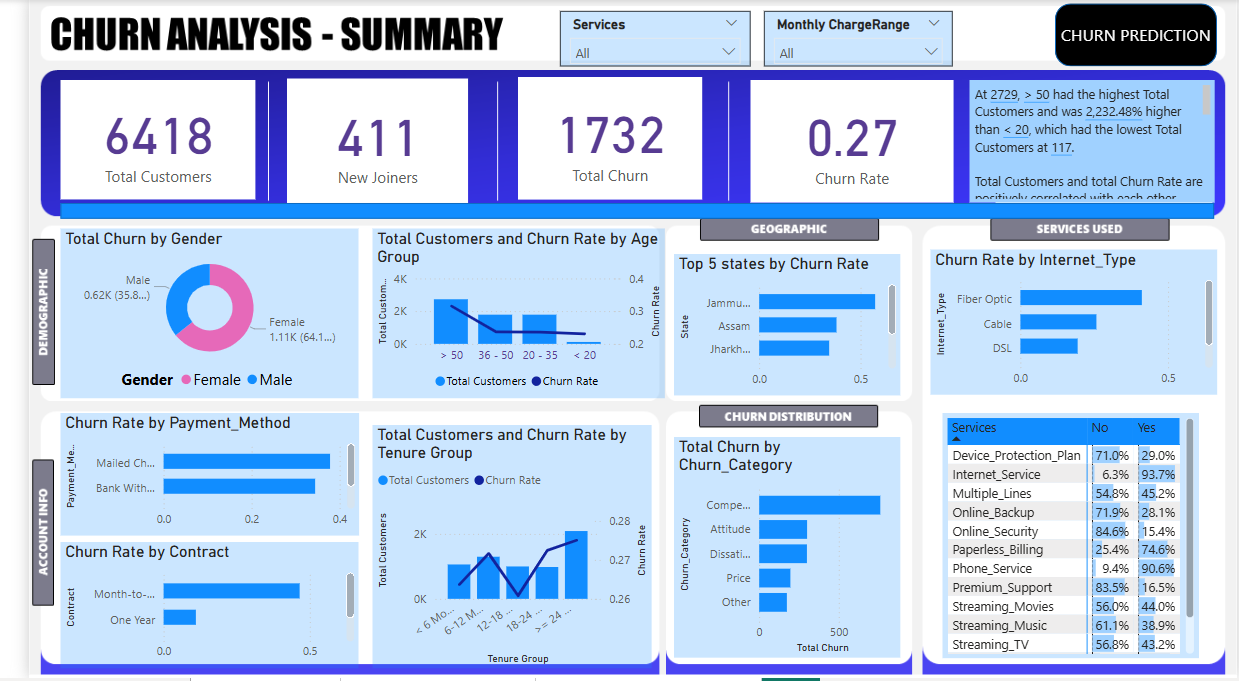

What the dashboard file says about the page in this screenshot:
{"tool":"powerbi","page":{"name":"SUMMARY","canvas":[1280,720],"ordinal":0},"visuals":[{"type":"card","fields":{"Values":["tbl_Measures.New Joiners"]},"box":[274,84,192,132],"z":0},{"type":"card","fields":{"Values":["tbl_Measures.Total Churn"]},"box":[518.3,83.3,195,130],"z":1000},{"type":"card","fields":{"Values":["tbl_Measures.Churn Rate"]},"box":[765,86.7,215,130],"z":2000},{"type":"card","fields":{"Values":["tbl_Measures.Total Customers"]},"box":[33.3,86.7,206.7,126.7],"z":3000},{"type":"donutChart","fields":{"Category":["prod_Churn.Gender"],"Y":["tbl_Measures.Total Churn"]},"box":[34,244,316,180],"z":4000},{"type":"lineStackedColumnComboChart","fields":{"Category":["Mapping_Agegrp.Age Group "],"Y":["tbl_Measures.Total Customers"],"Y2":["tbl_Measures.Churn Rate"]},"box":[364,244,310,180],"z":5000},{"type":"clusteredBarChart","fields":{"Category":["prod_Churn.Payment_Method"],"Y":["tbl_Measures.Churn Rate"]},"box":[33.3,438.3,316.7,130],"z":6000},{"type":"clusteredBarChart","fields":{"Category":["prod_Churn.Contract"],"Y":["tbl_Measures.Churn Rate"]},"box":[34,576,316,134],"z":7000},{"type":"lineStackedColumnComboChart","fields":{"Category":["Mapping_Tenuregrp.Tenure Group"],"Y":["tbl_Measures.Total Customers"],"Y2":["tbl_Measures.Churn Rate"]},"box":[364,452,296,258],"z":8000},{"type":"clusteredBarChart","title":"Top 5 states by Churn Rate  ","fields":{"Category":["prod_Churn.State"],"Y":["tbl_Measures.Churn Rate"]},"box":[684,270,240,150],"z":9000},{"type":"clusteredBarChart","fields":{"Category":["prod_Churn.Churn_Category"],"Y":["tbl_Measures.Total Churn"]},"box":[684,464,240,234],"z":10000},{"type":"clusteredBarChart","fields":{"Category":["prod_Churn.Internet_Type"],"Y":["tbl_Measures.Churn Rate"]},"box":[956,266,304,154],"z":11000},{"type":"pivotTable","title":"Churn by Services","fields":{"Rows":["prod_services.Services"],"Values":["Sum(prod_services.Churn Status)"],"Columns":["prod_services.Status"]},"box":[968.3,438.3,271.7,260],"z":12000},{"type":"slicer","fields":{"Values":["prod_Churn.Monthly ChargeRange"]},"box":[780,13.3,200,58.3],"z":13000},{"type":"slicer","fields":{"Values":["prod_Churn.State"]},"box":[563.3,13.3,201.7,58.3],"z":14000},{"type":"image","box":[1020,71.7,240,161.7],"z":15000},{"type":"shape","box":[33.3,216.7,1223.3,16.7],"z":16000},{"type":"textbox","box":[996.7,86.7,260,130],"z":17000},{"type":"shape","box":[1088.3,5,171.7,66.7],"z":17001}]}

Visuals, with their boxes in screenshot pixels (x1, y1, x2, y2), scaled from the page's 1280x720 canvas onto the 1239x681 screenshot:
card - tbl_Measures.New Joiners: {"left": 265, "top": 79, "right": 451, "bottom": 204}
card - tbl_Measures.Total Churn: {"left": 502, "top": 79, "right": 690, "bottom": 202}
card - tbl_Measures.Churn Rate: {"left": 740, "top": 82, "right": 949, "bottom": 205}
card - tbl_Measures.Total Customers: {"left": 32, "top": 82, "right": 232, "bottom": 202}
donutChart - prod_Churn.Gender x tbl_Measures.Total Churn: {"left": 33, "top": 231, "right": 339, "bottom": 401}
lineStackedColumnComboChart - Mapping_Agegrp.Age Group  x tbl_Measures.Total Customers: {"left": 352, "top": 231, "right": 652, "bottom": 401}
clusteredBarChart - prod_Churn.Payment_Method x tbl_Measures.Churn Rate: {"left": 32, "top": 415, "right": 339, "bottom": 538}
clusteredBarChart - prod_Churn.Contract x tbl_Measures.Churn Rate: {"left": 33, "top": 545, "right": 339, "bottom": 672}
lineStackedColumnComboChart - Mapping_Tenuregrp.Tenure Group x tbl_Measures.Total Customers: {"left": 352, "top": 428, "right": 639, "bottom": 672}
"Top 5 states by Churn Rate  " clusteredBarChart: {"left": 662, "top": 255, "right": 894, "bottom": 397}
clusteredBarChart - prod_Churn.Churn_Category x tbl_Measures.Total Churn: {"left": 662, "top": 439, "right": 894, "bottom": 660}
clusteredBarChart - prod_Churn.Internet_Type x tbl_Measures.Churn Rate: {"left": 925, "top": 252, "right": 1220, "bottom": 397}
"Churn by Services" pivotTable: {"left": 937, "top": 415, "right": 1200, "bottom": 660}
slicer - prod_Churn.Monthly ChargeRange: {"left": 755, "top": 13, "right": 949, "bottom": 68}
slicer - prod_Churn.State: {"left": 545, "top": 13, "right": 740, "bottom": 68}
image: {"left": 987, "top": 68, "right": 1220, "bottom": 221}
shape: {"left": 32, "top": 205, "right": 1216, "bottom": 221}
textbox: {"left": 965, "top": 82, "right": 1216, "bottom": 205}
shape: {"left": 1053, "top": 5, "right": 1220, "bottom": 68}
